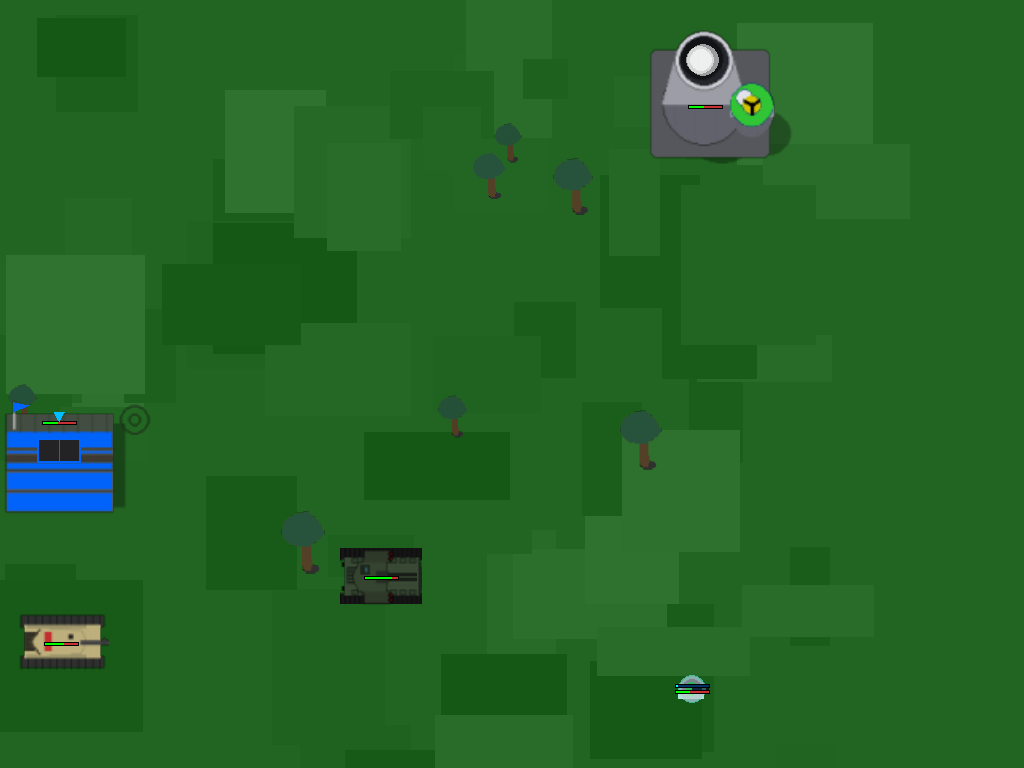Barracks: (0, 354, 130, 484)
M1A2_usa: (22, 602, 100, 680)
PowerPlant: (658, 56, 752, 150)
Shotgunner: (672, 668, 712, 708)
TerminatorIFV: (349, 543, 413, 607)
